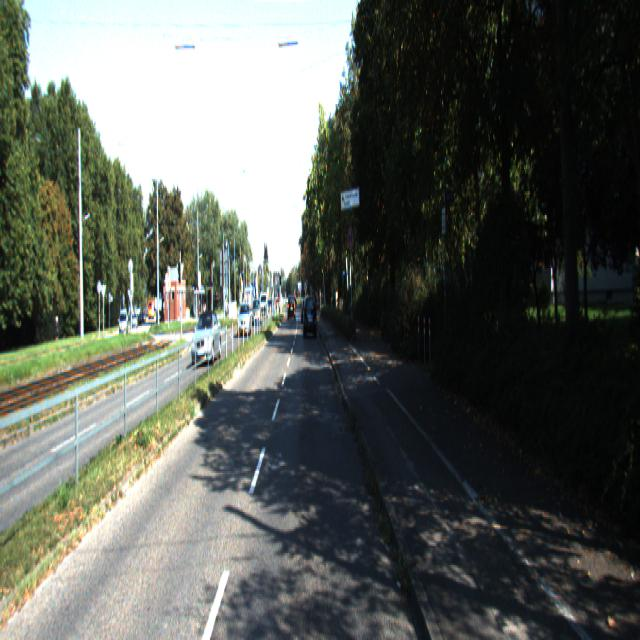Car: (191, 310, 222, 369), (304, 295, 318, 340)
